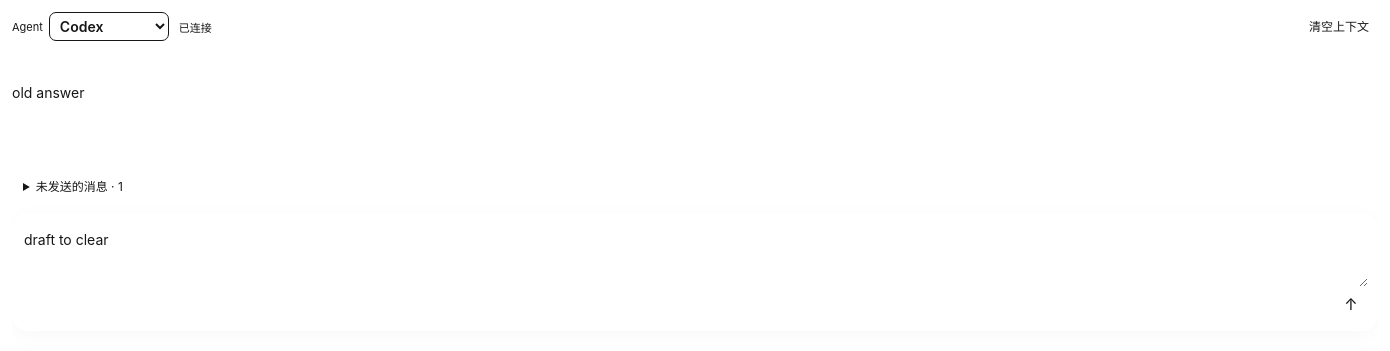
Test case: clears the visible transcript and drafts from the same clear action that resets the backend session
Click the button "清空上下文" at (1339, 26), box [1300,13,1378,40]
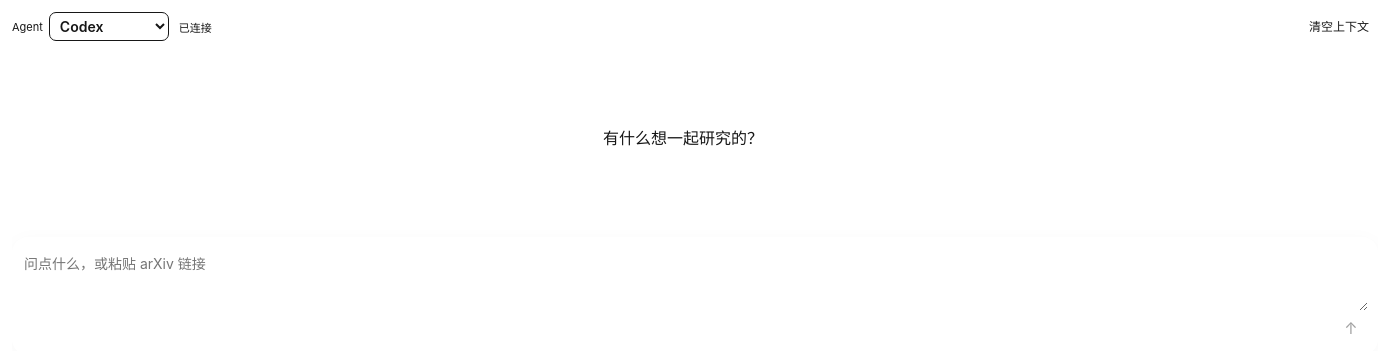
Now the text "old answer" is gone
Now the text "有什么想一起研究的？" is shown, box [603,128,763,148]
